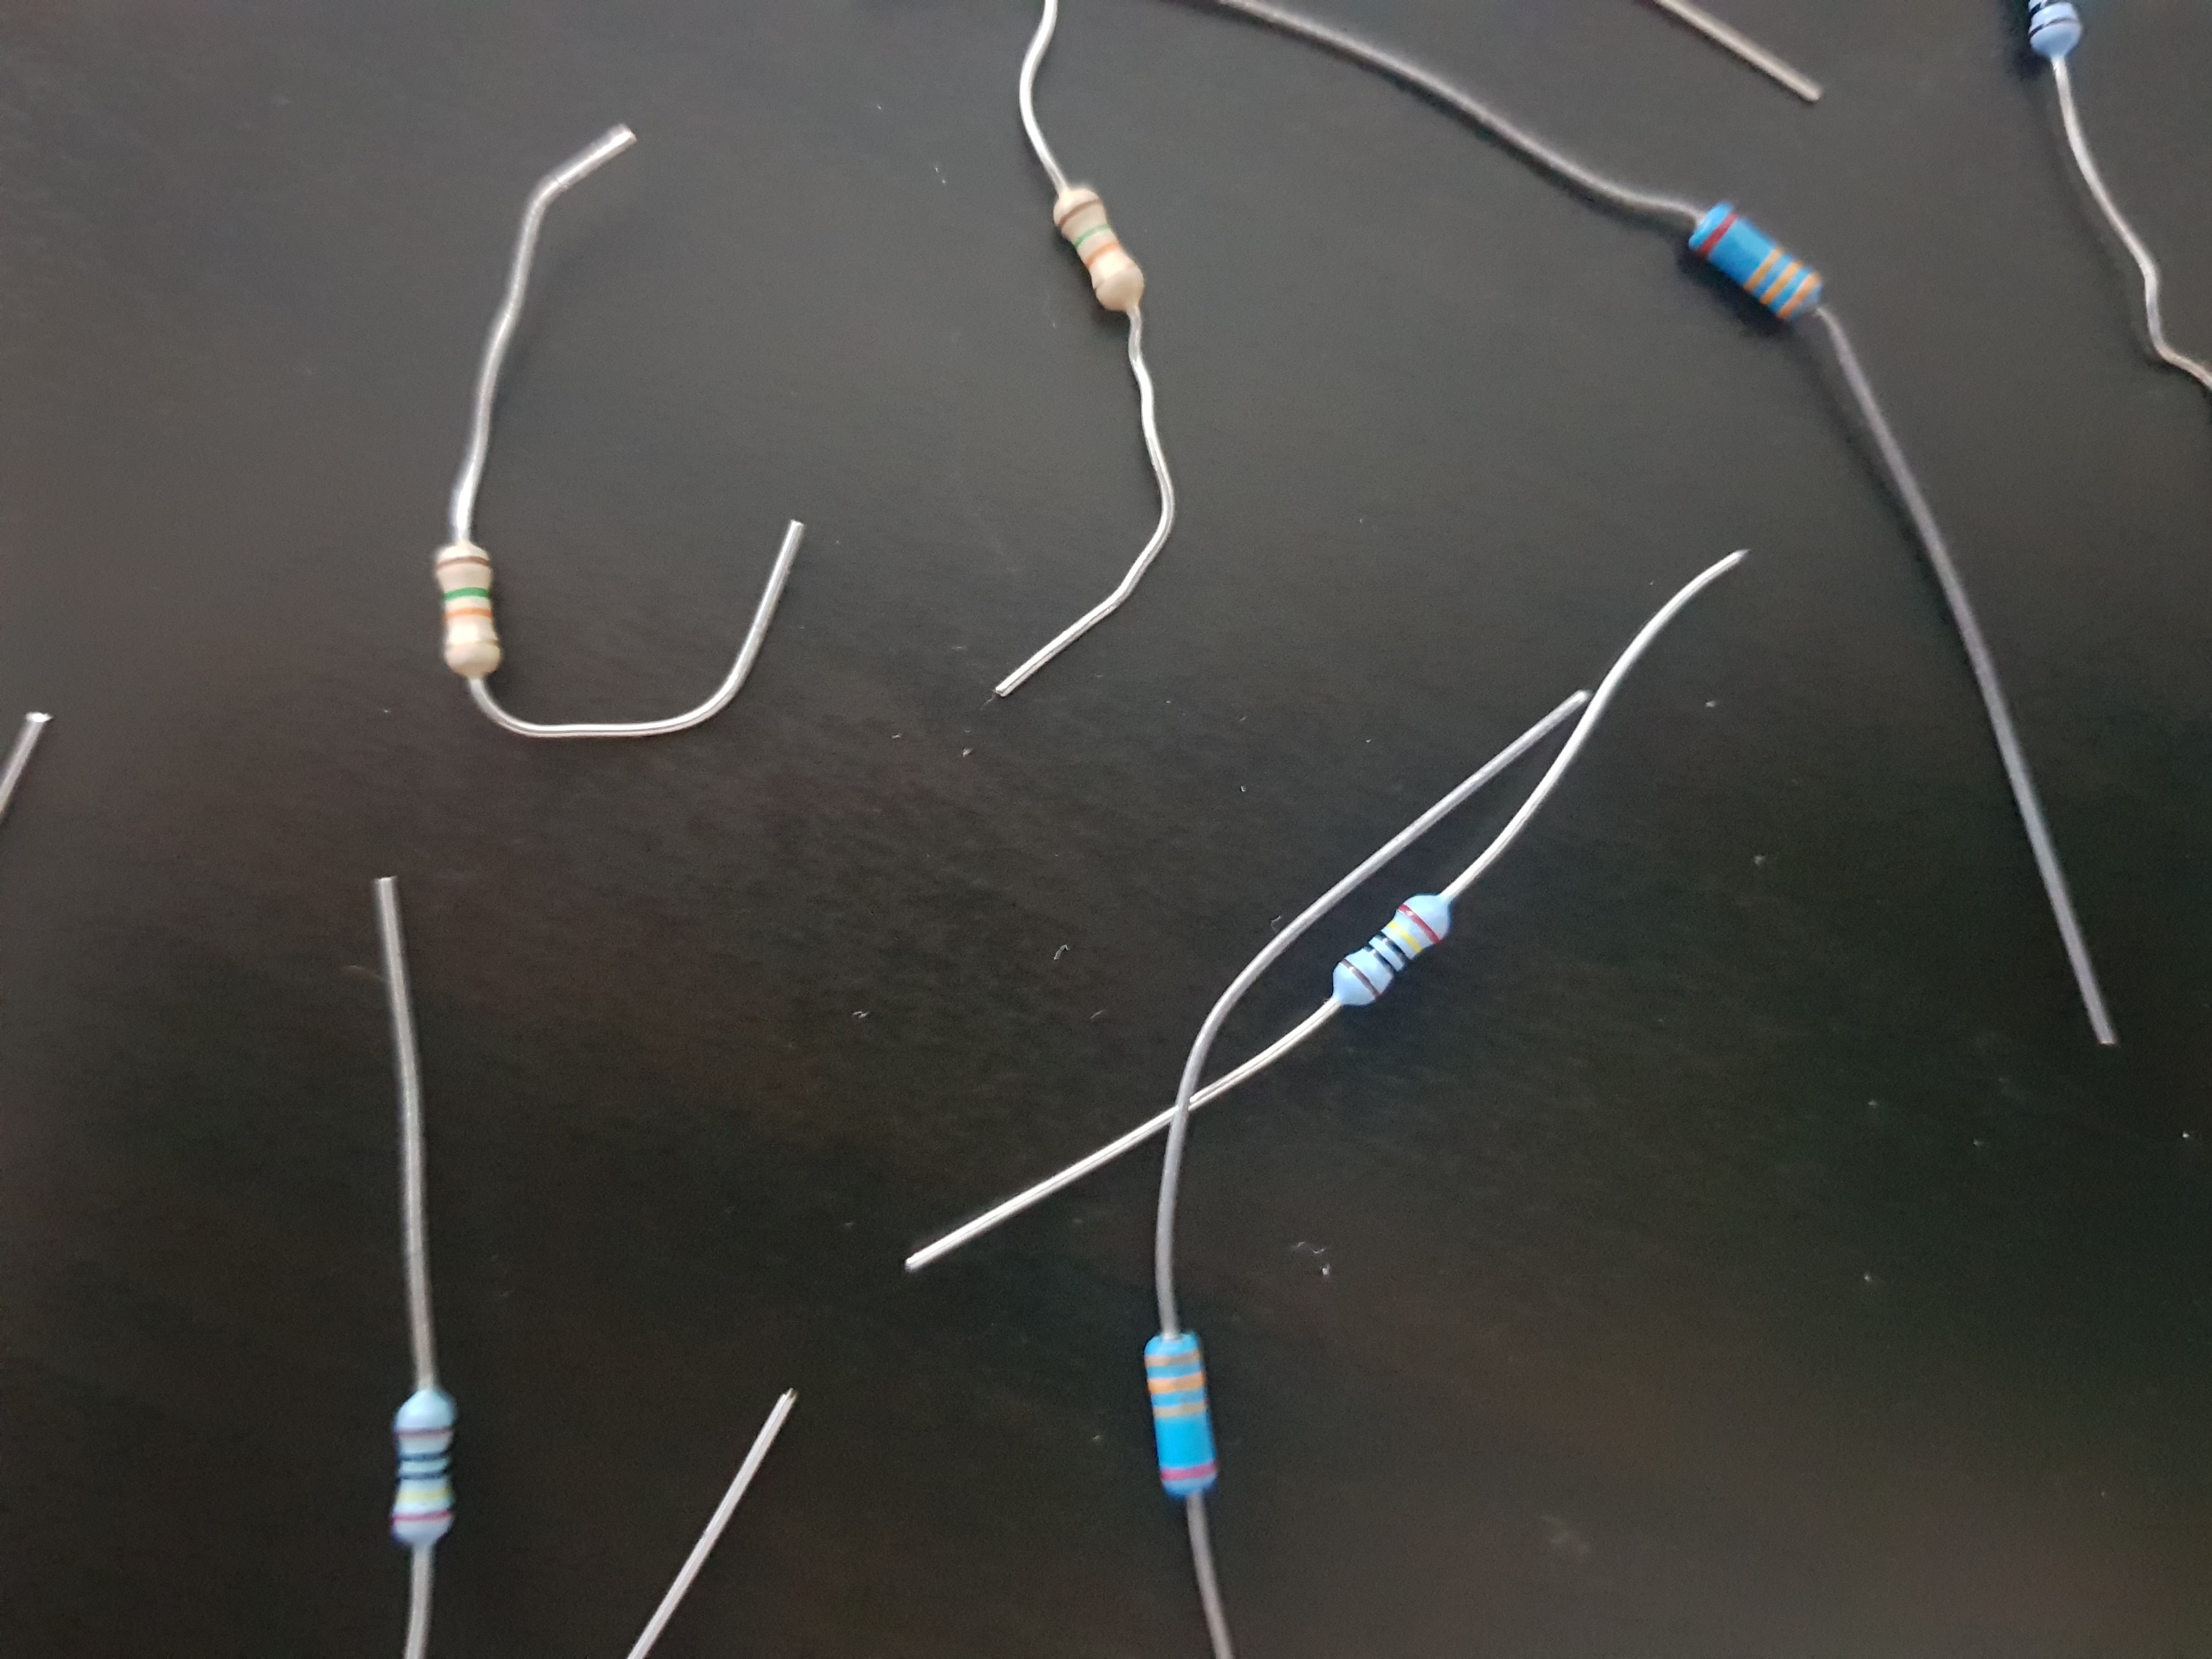resistor: (275, 1304, 543, 1614), (1602, 152, 1885, 436), (1103, 1291, 1392, 1567), (967, 132, 1245, 392), (364, 472, 580, 758), (1266, 868, 1515, 1101)
